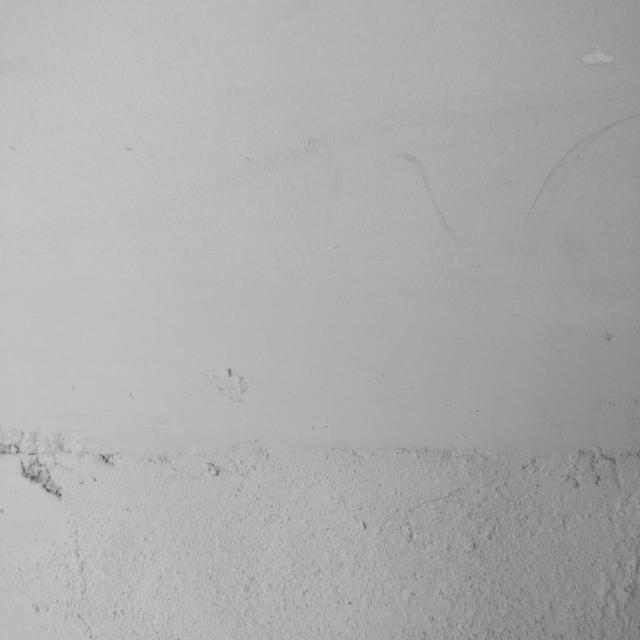rough and patchy surface: (0, 423, 640, 640), (178, 359, 260, 413)
